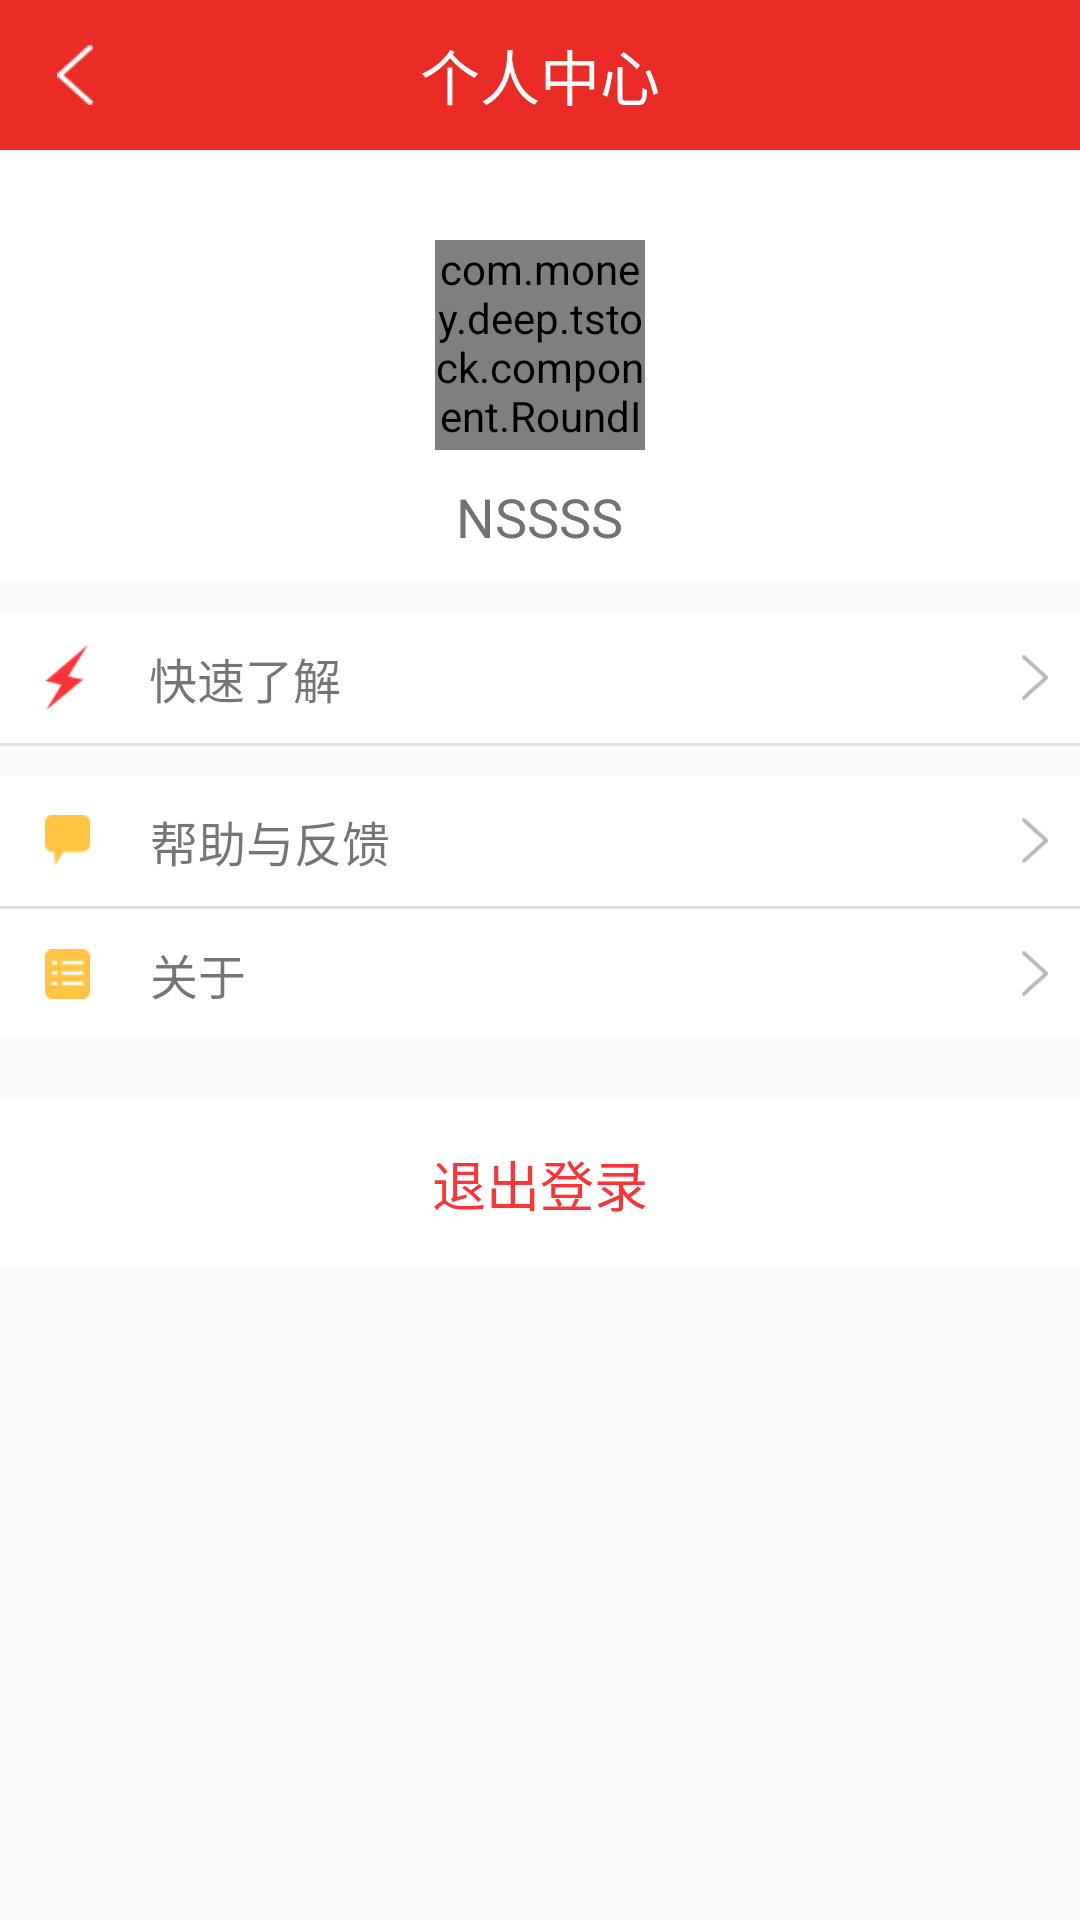

Named icons in this screenshot (1080 x 1920) and their bounding boxes, (x1, y1, x2, y2):
about item: (45, 949, 90, 999)
help item: (45, 815, 90, 866)
left: (57, 45, 93, 105)
quick item: (45, 645, 88, 710)
right: (1022, 655, 1048, 700), (1022, 818, 1048, 863), (1022, 951, 1048, 996)
